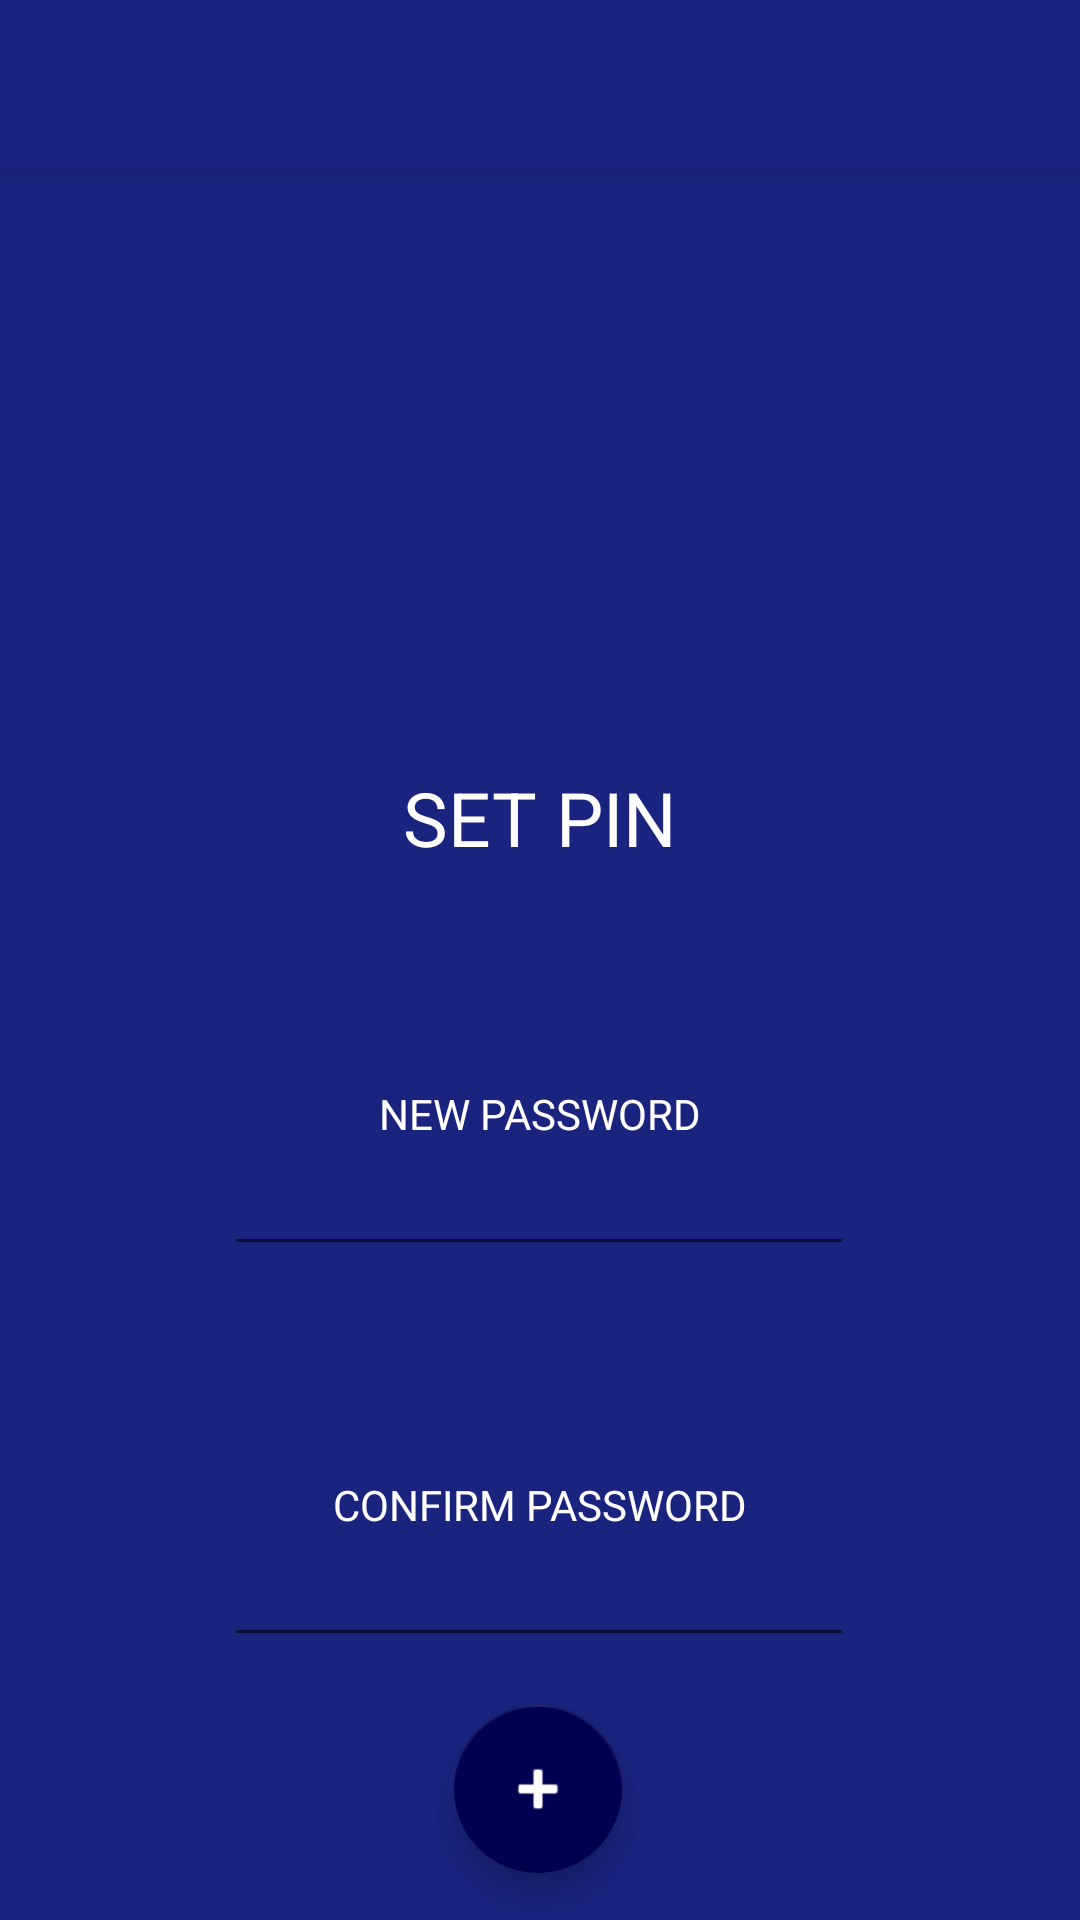

Where icons sit on this 1080×1920 app screen, as (x1, y1, x2, y2):
add: (454, 1707, 622, 1873)
